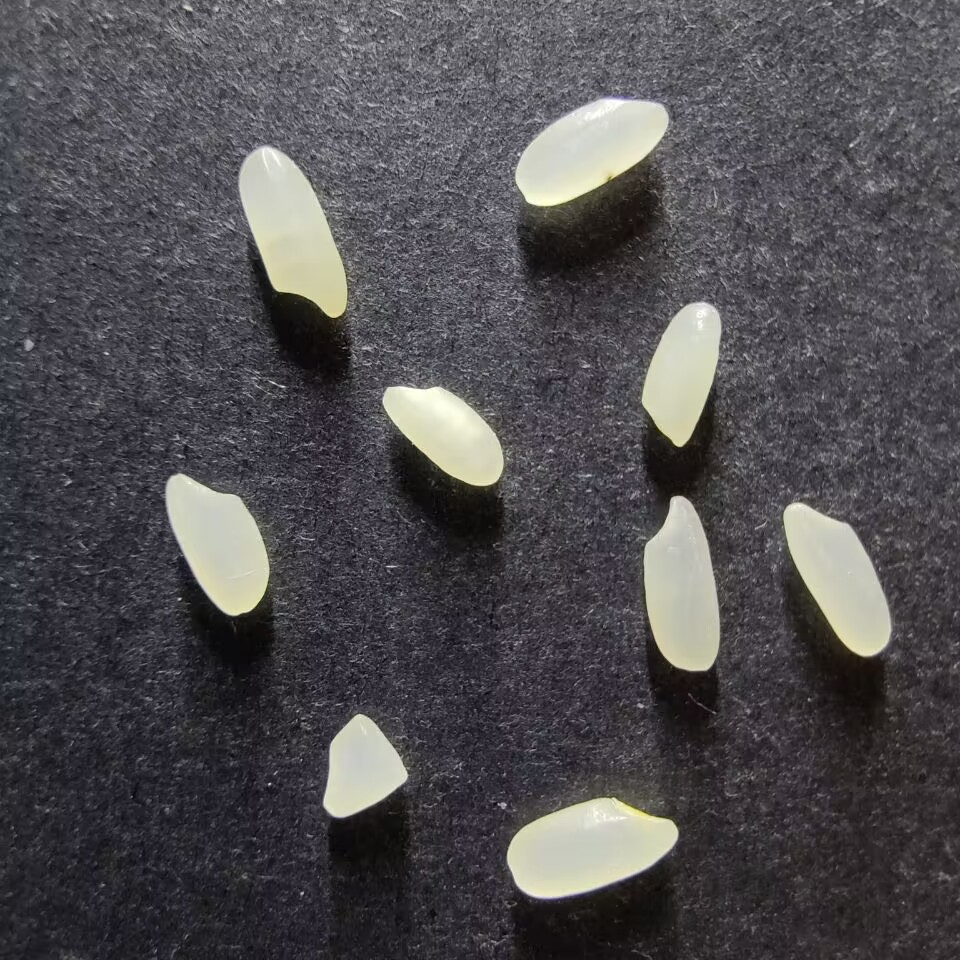broken: (320, 712, 410, 820)
rice: (236, 145, 349, 320), (504, 796, 678, 900), (782, 500, 895, 658), (512, 97, 669, 207), (163, 472, 270, 616), (641, 494, 722, 673), (379, 385, 505, 487), (638, 301, 723, 448)
